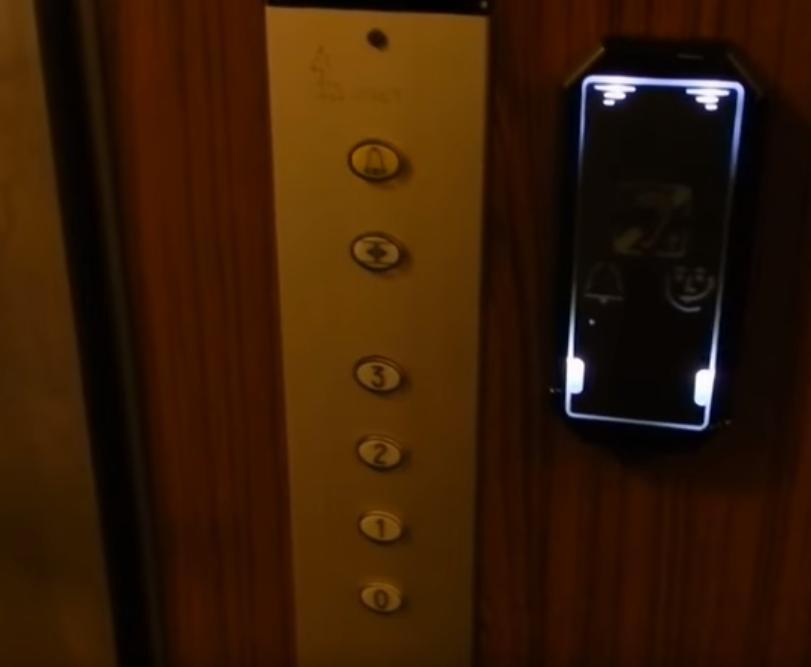0: (357, 581, 404, 615)
1: (357, 510, 406, 545)
2: (354, 434, 406, 472)
3: (351, 352, 405, 394)
alarm: (347, 138, 402, 183)
unknown: (350, 232, 404, 274)
